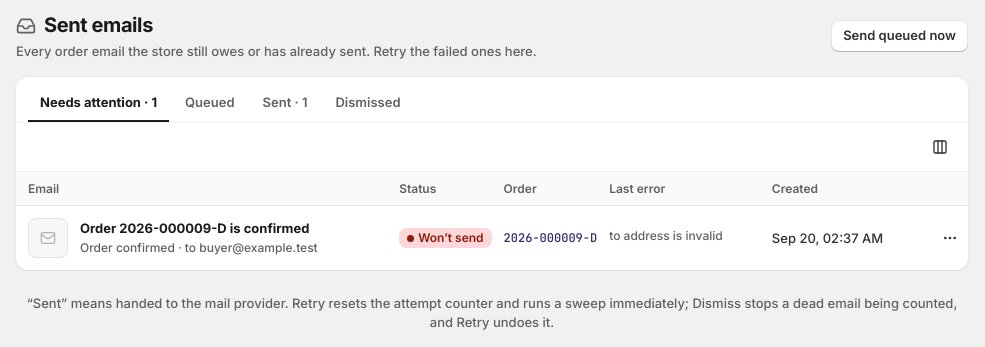
the dead-letter bucket › switching to Sent asks the server for that bucket
Expected: the text "Order 2026-000009-D is confirmed" is shown, [80,220,318,238]
Step 1. Click the tab "Sent · 1" → x=285, y=103, box [250,85,319,122]
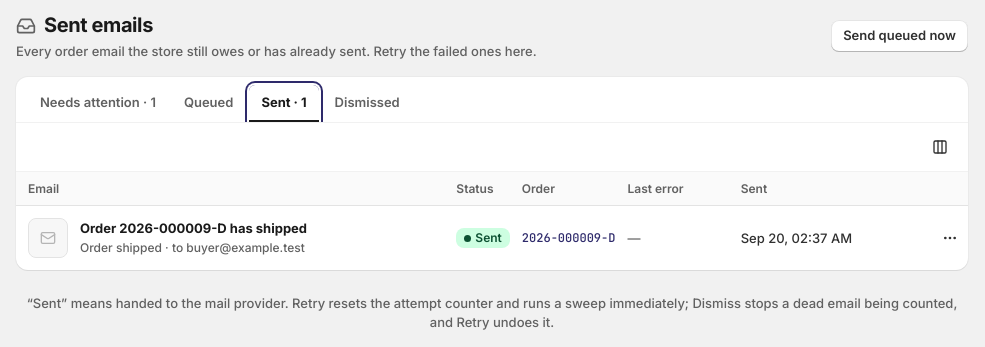
Expected: the text "Order 2026-000009-D has shipped" is shown, [80,220,307,238]
